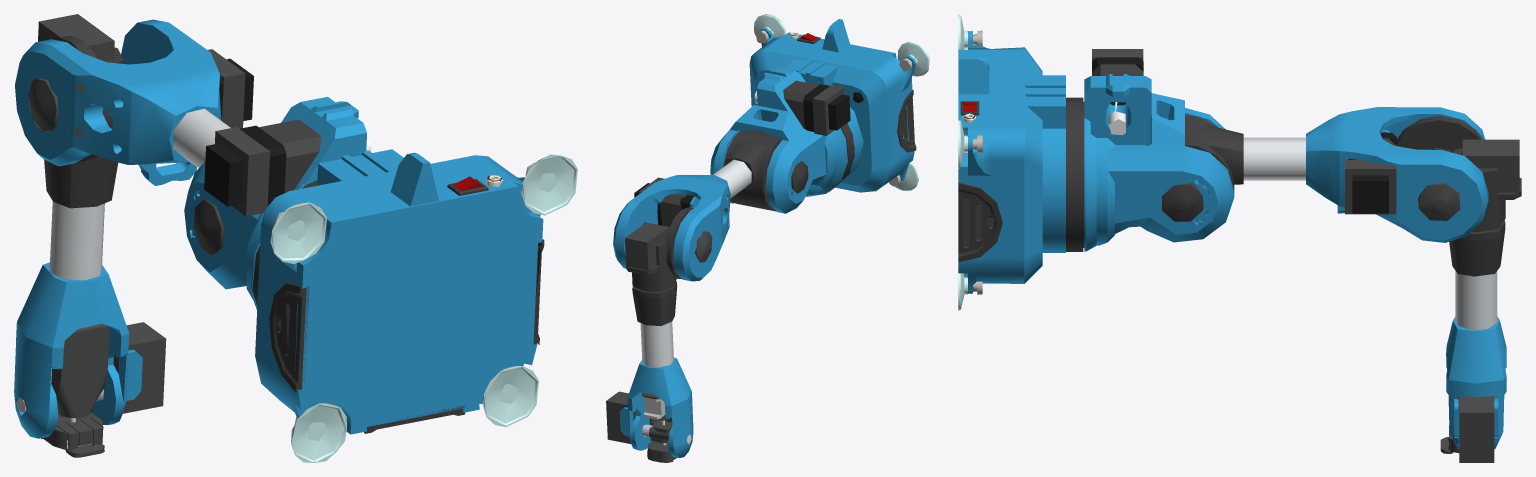
Rendered from NiryoOne.fbx.
3 views of the same model, side by side, from view 1: azimuth 30°, elevation 25°; view 2: azimuth 150°, elevation 25°; view 3: azimuth 270°, elevation 25° (orthographic). The views are drawn at different scales.
Visible parts, largest first — view 1: 1-Base_NiryoOne_V2.0-1, 3-Arm_NiryoOne_V2.0-4, 5-Forearm_NiryoOne_V2.0-3, 2-Shoulder_NiryoOne_V2.0-2, 6-Wrist_NiryoOne_V2.0-4, 4-Elbow_NiryoOne_V2.0-3, 7-Hand_NiryoOne_V2.0-3; view 2: 1-Base_NiryoOne_V2.0-1, 2-Shoulder_NiryoOne_V2.0-2, 3-Arm_NiryoOne_V2.0-4, 5-Forearm_NiryoOne_V2.0-3, 4-Elbow_NiryoOne_V2.0-3, 6-Wrist_NiryoOne_V2.0-4, 7-Hand_NiryoOne_V2.0-3; view 3: 1-Base_NiryoOne_V2.0-1, 3-Arm_NiryoOne_V2.0-4, 2-Shoulder_NiryoOne_V2.0-2, 5-Forearm_NiryoOne_V2.0-3, 4-Elbow_NiryoOne_V2.0-3.
Part boxes in pixels (box(x1,y1,x2,y2)): 1-Base_NiryoOne_V2.0-1: box(252, 149, 577, 462); 3-Arm_NiryoOne_V2.0-4: box(15, 19, 253, 185); 5-Forearm_NiryoOne_V2.0-3: box(14, 156, 166, 438); 2-Shoulder_NiryoOne_V2.0-2: box(184, 96, 371, 310); 6-Wrist_NiryoOne_V2.0-4: box(17, 323, 109, 422); 4-Elbow_NiryoOne_V2.0-3: box(38, 14, 144, 161); 7-Hand_NiryoOne_V2.0-3: box(41, 412, 104, 457); 1-Base_NiryoOne_V2.0-1: box(749, 14, 929, 192); 2-Shoulder_NiryoOne_V2.0-2: box(710, 67, 850, 213); 3-Arm_NiryoOne_V2.0-4: box(613, 130, 782, 281); 5-Forearm_NiryoOne_V2.0-3: box(606, 281, 693, 457); 4-Elbow_NiryoOne_V2.0-3: box(625, 207, 693, 291); 6-Wrist_NiryoOne_V2.0-4: box(642, 392, 691, 445); 7-Hand_NiryoOne_V2.0-3: box(647, 441, 676, 462); 1-Base_NiryoOne_V2.0-1: box(958, 14, 1084, 310); 3-Arm_NiryoOne_V2.0-4: box(1185, 107, 1488, 242); 2-Shoulder_NiryoOne_V2.0-2: box(1084, 49, 1234, 251); 5-Forearm_NiryoOne_V2.0-3: box(1446, 220, 1506, 462); 4-Elbow_NiryoOne_V2.0-3: box(1397, 115, 1521, 232).
Bounding box in the file's own units: 0.2229 × 0.3595 × 0.46.
